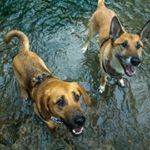puppy: (2, 28, 95, 137), (80, 1, 145, 97)
